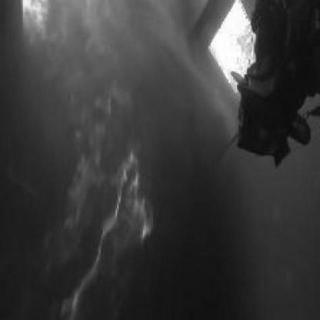Fire: (3, 4, 187, 318)
